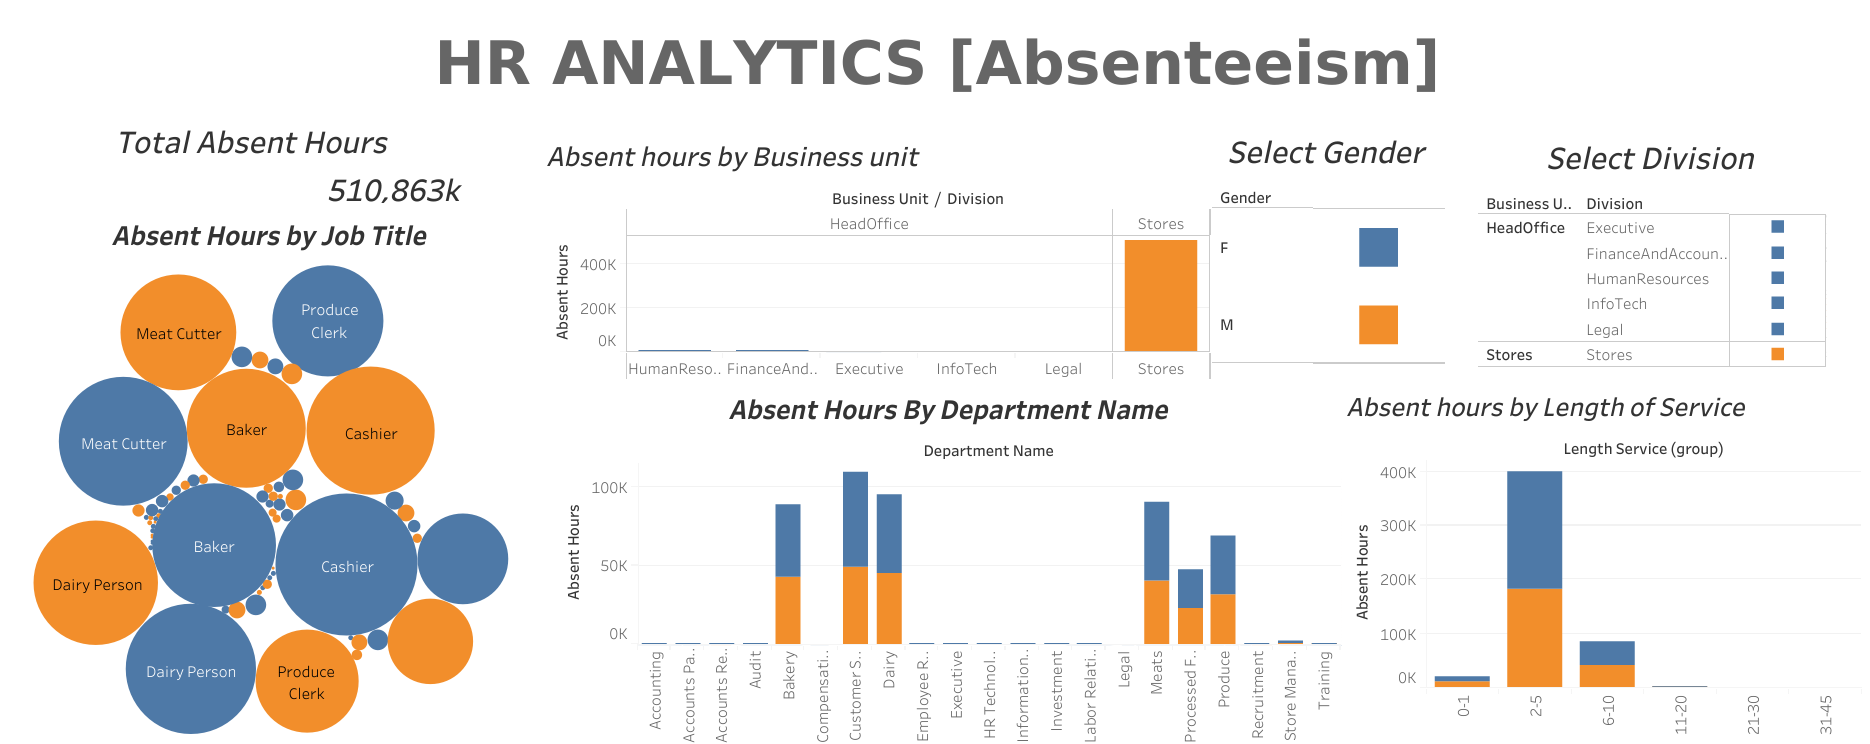

This screenshot's page, from the dashboard's own definition file:
{"tool":"tableau","page":{"name":"HR Analytics","canvas":[1000,1000],"units":"permille","ordinal":0},"visuals":[{"type":"text","box":[14.1,25.9,974.2,117.5]},{"type":"worksheet","title":"tot ab hrs","mark":"Automatic","box":[18.2,149.2,234.9,123.4]},{"type":"worksheet","title":"gender","mark":"Automatic","rows":["Gender"],"box":[647.9,162.2,124.2,326.7]},{"type":"worksheet","title":"division","mark":"Automatic","rows":["BusinessUnit","Division"],"box":[790.3,170.4,185.7,323.2]},{"type":"worksheet","title":"business unit","mark":"Automatic","rows":["AbsentHours"],"cols":["BusinessUnit","Division"],"box":[289.4,175.1,357.9,334.9]},{"type":"worksheet","title":"job title","mark":"Circle","box":[0.6,279.7,288.8,705.1]},{"type":"worksheet","title":"los","mark":"Automatic","rows":["AbsentHours"],"box":[717.1,511.2,277.7,478.3]},{"type":"worksheet","title":"department name","mark":"Automatic","rows":["AbsentHours"],"cols":["DepartmentName"],"box":[299.9,513.5,415.9,484.1]}]}

Visuals, with their boxes on the dashboard's canvas, which has no fixed pixel size, in thousandths of its width and height (x1, y1, x2, y2). These are canvas units, not pixel positions in the 1870x744 screenshot, which may show the page scaled, cropped or inside an application window:
text: box=[14, 26, 988, 143]
"tot ab hrs" worksheet: box=[18, 149, 253, 273]
"gender" worksheet: box=[648, 162, 772, 489]
"division" worksheet: box=[790, 170, 976, 494]
"business unit" worksheet: box=[289, 175, 647, 510]
"job title" worksheet (Circle marks): box=[1, 280, 289, 985]
"los" worksheet: box=[717, 511, 995, 990]
"department name" worksheet: box=[300, 514, 716, 998]
